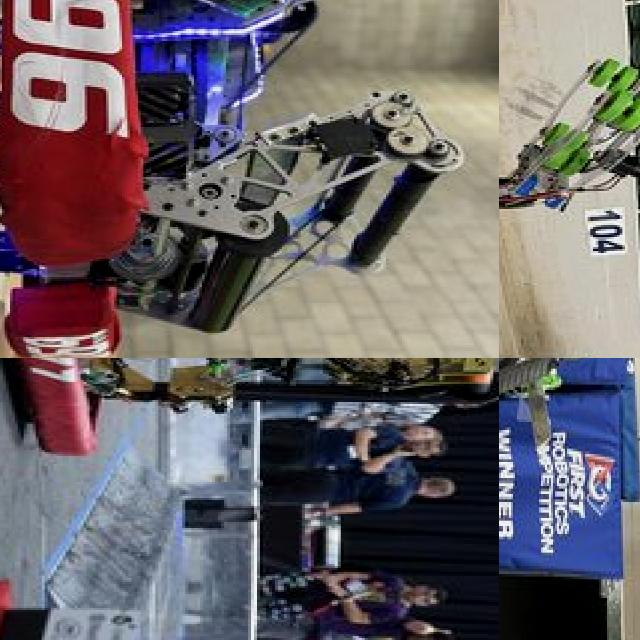FRC-Robots: (0, 0, 480, 358), (0, 358, 499, 462), (499, 20, 640, 358), (499, 358, 634, 640)
